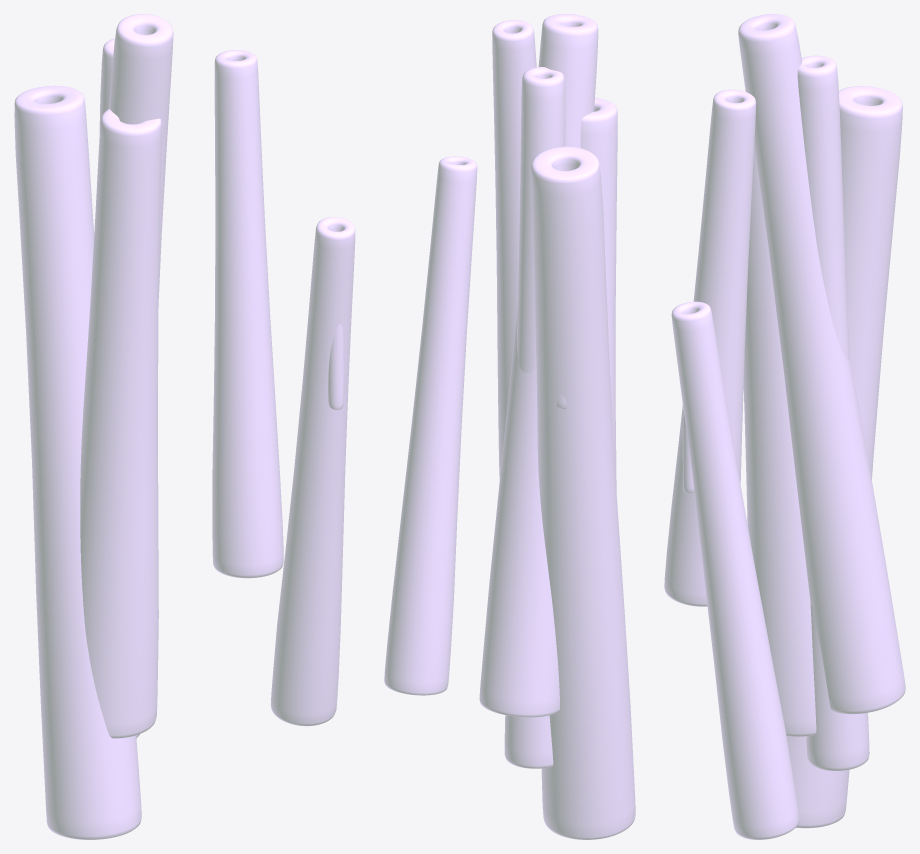
Rendered from sponge-tube-purple-01.glb.
The picture shows the model from 3 angles, left to right: view 1: azimuth 30°, elevation 25°; view 2: azimuth 150°, elevation 25°; view 3: azimuth 270°, elevation 25°; orthographic projection. The views are drawn at different scales.
Visible parts, largest first — view 1: sponge-tube-purple-01.tube4, sponge-tube-purple-01.tube2, sponge-tube-purple-01.tube3, sponge-tube-purple-01.tube5, sponge-tube-purple-01.tube0, sponge-tube-purple-01.tube1; view 2: sponge-tube-purple-01.tube4, sponge-tube-purple-01.tube5, sponge-tube-purple-01.tube0, sponge-tube-purple-01.tube3, sponge-tube-purple-01.tube1, sponge-tube-purple-01.tube2; view 3: sponge-tube-purple-01.tube0, sponge-tube-purple-01.tube5, sponge-tube-purple-01.tube2, sponge-tube-purple-01.tube4, sponge-tube-purple-01.tube3, sponge-tube-purple-01.tube1.
Boxes of the visible parts, x1,y1,x2,y2 form: sponge-tube-purple-01.tube4: [14, 85, 141, 839]; sponge-tube-purple-01.tube2: [80, 109, 161, 738]; sponge-tube-purple-01.tube3: [212, 50, 283, 578]; sponge-tube-purple-01.tube5: [270, 217, 355, 726]; sponge-tube-purple-01.tube0: [109, 14, 173, 298]; sponge-tube-purple-01.tube1: [99, 38, 139, 737]; sponge-tube-purple-01.tube4: [531, 146, 635, 839]; sponge-tube-purple-01.tube5: [384, 156, 477, 695]; sponge-tube-purple-01.tube0: [479, 14, 598, 717]; sponge-tube-purple-01.tube3: [492, 20, 536, 479]; sponge-tube-purple-01.tube1: [504, 67, 565, 768]; sponge-tube-purple-01.tube2: [580, 97, 617, 491]; sponge-tube-purple-01.tube0: [738, 14, 905, 714]; sponge-tube-purple-01.tube5: [671, 301, 799, 839]; sponge-tube-purple-01.tube2: [743, 146, 816, 736]; sponge-tube-purple-01.tube4: [786, 86, 902, 828]; sponge-tube-purple-01.tube3: [664, 89, 756, 606]; sponge-tube-purple-01.tube1: [797, 55, 869, 770].
Size of the model in its own units: 0.9106 by 2.65 by 0.7179.
